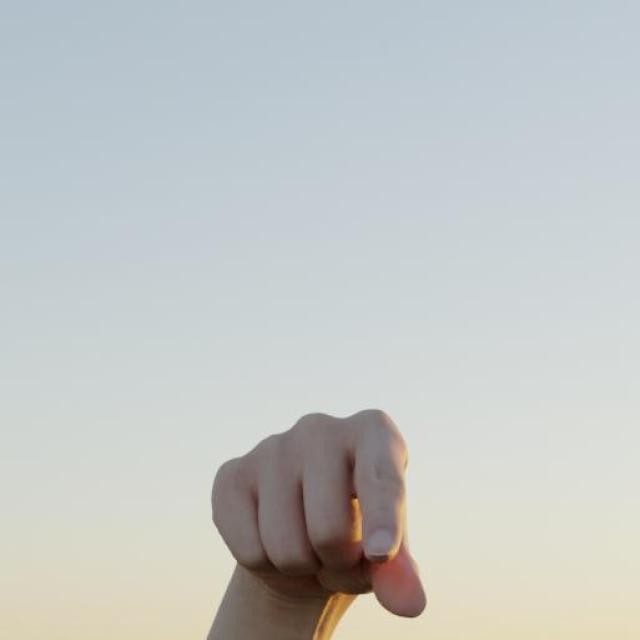Q: (206, 402, 433, 624)
